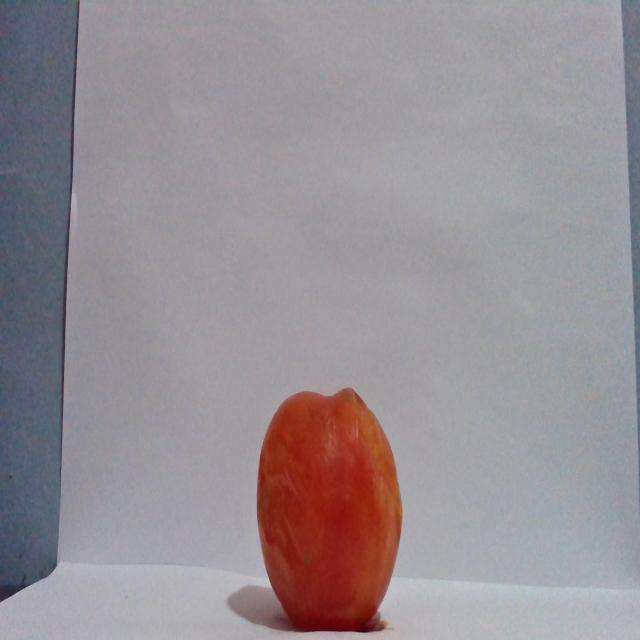Red: (254, 385, 403, 631)
